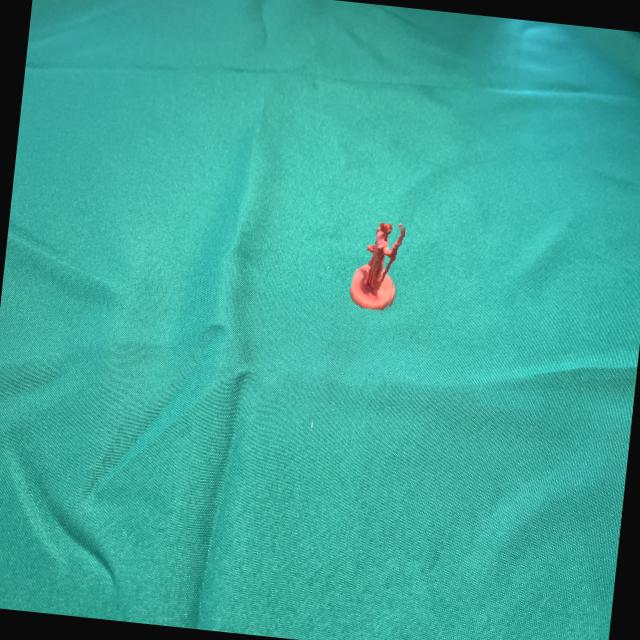amon_follower: (349, 222, 405, 310)
